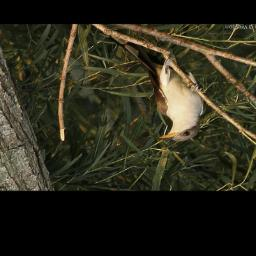Cuckoo: (106, 31, 207, 142)
